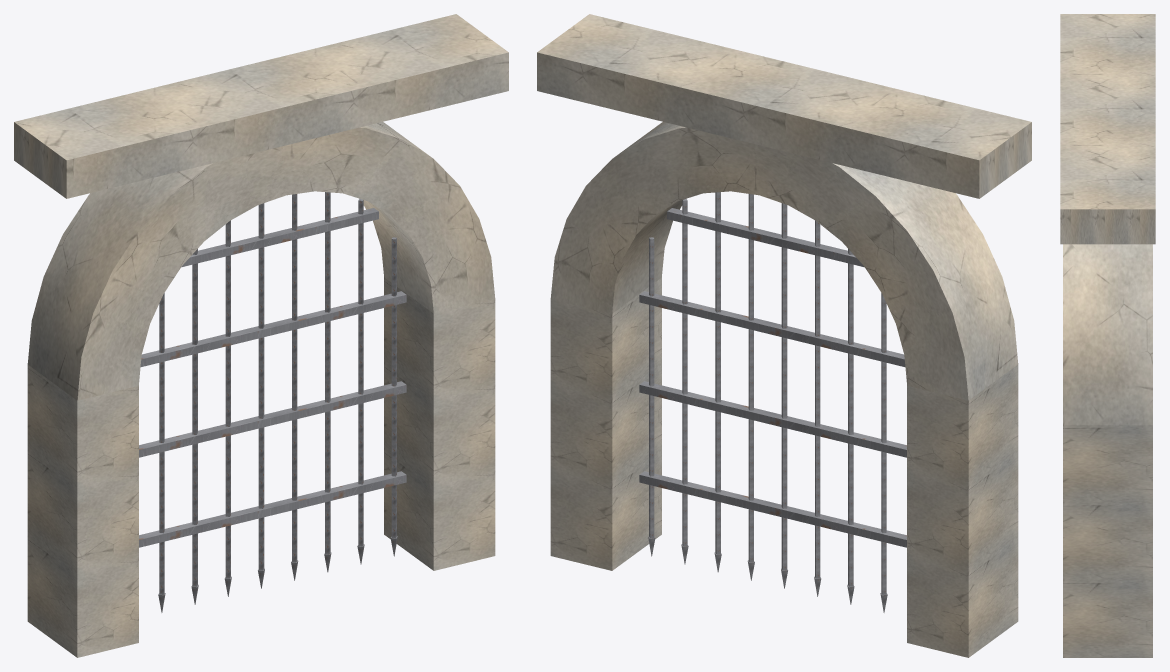
Rendered from portcullis.glb.
The picture shows the model from 3 angles, left to right: view 1: azimuth 30°, elevation 25°; view 2: azimuth 150°, elevation 25°; view 3: azimuth 270°, elevation 25°; orthographic projection. The views are drawn at different scales.
Parts seen in each view (by area): view 1: OUT; view 2: OUT; view 3: OUT.
Part boxes in pixels (bbox=[...]): OUT: bbox=[14, 14, 508, 657]; OUT: bbox=[537, 14, 1031, 657]; OUT: bbox=[1060, 14, 1155, 657].
Bounding box in the file's own units: 3.6 × 3.9 × 0.74.
Materials: 2 (2 with a texture image).
